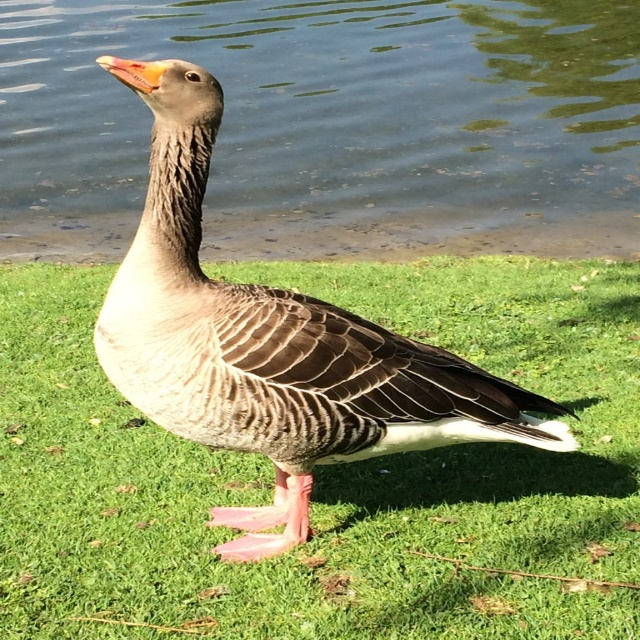Goose: (90, 50, 588, 562)
